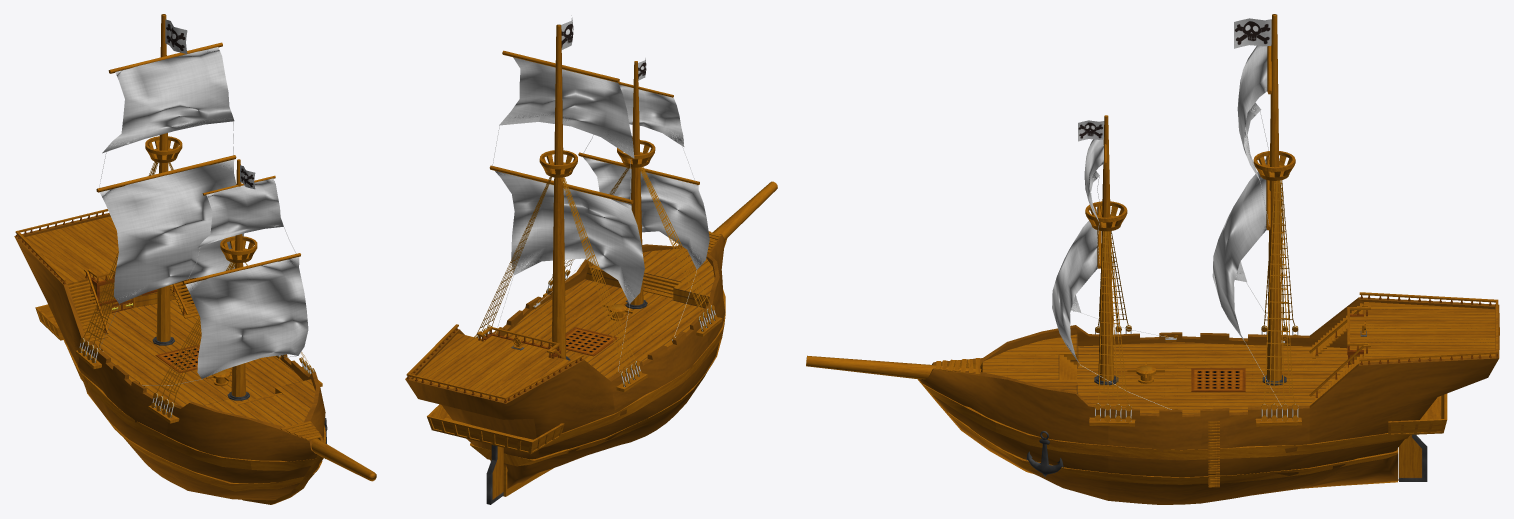
Rendered from ship.fbx.
3 views of the same model, side by side, from view 1: azimuth 30°, elevation 25°; view 2: azimuth 150°, elevation 25°; view 3: azimuth 270°, elevation 25° (orthographic). The views are drawn at different scales.
Parts seen in each view (by area): view 1: Ship_Hasira_back, Ship_Hasira_front, Ship_Dekoration, Ship_main_Damaged, Ship_main_front, Ship_main_Right, Ship_main_Back, Ship_main_Left, Ship_net; view 2: Ship_Hasira_back, Ship_main_Damaged, Ship_Dekoration, Ship_main_Back, Ship_Hasira_front, Ship_main_Right, Ship_main_front, Ship_net, Ship_main_Left; view 3: Ship_main_Damaged, Ship_Dekoration, Ship_main_Left, Ship_main_front, Ship_main_Back, Ship_Hasira_back, Ship_Hasira_front, Ship_main_Right, Ship_net.
Part boxes in pixels (x1,y1,x2,y2): Ship_Hasira_back: [96, 14, 243, 347]; Ship_Hasira_front: [143, 159, 308, 385]; Ship_Dekoration: [15, 209, 376, 504]; Ship_main_Damaged: [14, 213, 322, 497]; Ship_main_front: [167, 371, 325, 500]; Ship_main_Right: [78, 329, 231, 490]; Ship_main_Back: [15, 227, 199, 385]; Ship_main_Left: [147, 316, 305, 392]; Ship_net: [83, 161, 309, 402]; Ship_Hasira_back: [489, 15, 644, 371]; Ship_main_Damaged: [405, 232, 725, 488]; Ship_Dekoration: [406, 181, 777, 504]; Ship_main_Back: [405, 329, 612, 488]; Ship_Hasira_front: [536, 58, 709, 336]; Ship_main_Right: [566, 307, 708, 458]; Ship_main_front: [565, 231, 724, 371]; Ship_net: [476, 167, 710, 371]; Ship_main_Left: [492, 280, 630, 355]; Ship_main_Damaged: [919, 297, 1499, 500]; Ship_Dekoration: [806, 292, 1498, 488]; Ship_main_Left: [1108, 380, 1311, 504]; Ship_main_front: [919, 325, 1108, 487]; Ship_main_Back: [1309, 298, 1498, 486]; Ship_Hasira_back: [1212, 14, 1295, 406]; Ship_Hasira_front: [1052, 115, 1173, 409]; Ship_main_Right: [1113, 332, 1311, 380]; Ship_net: [1097, 180, 1294, 405].
Size of the model in its own units: 2502 by 6400 by 8410.
